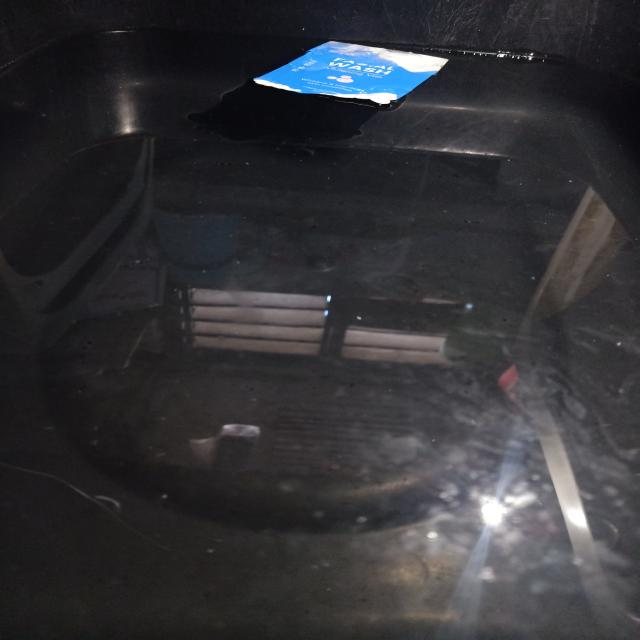Plastic Wrapper: (254, 41, 447, 104)
